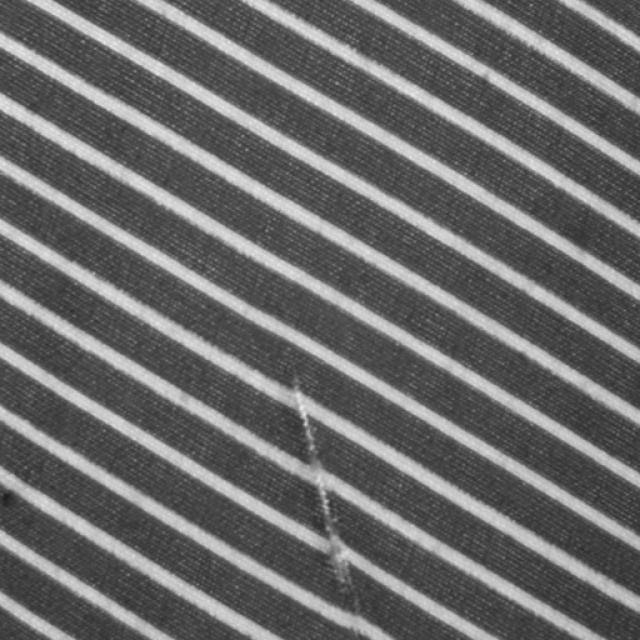Thread-Defect: (285, 372, 369, 639)
